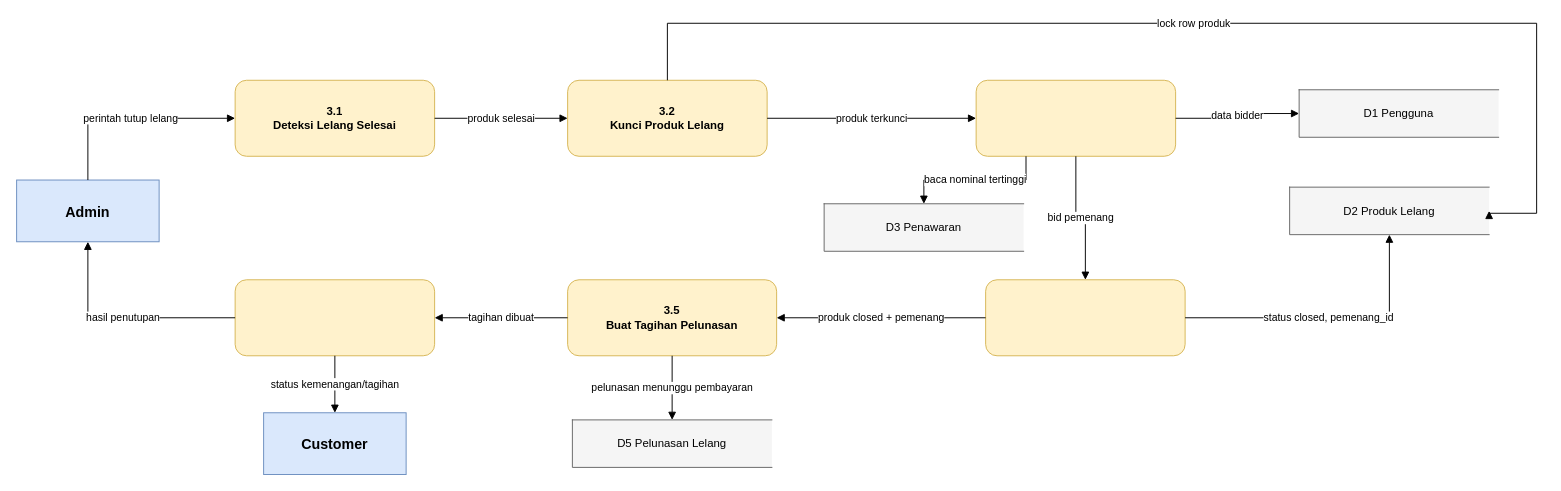
This 1561x491 diagram has some shape labels left out. Here are the shapes that lost their labels. From the top down, the centre of each, then its label:
[1075,117]: 3.3 Ambil Bid Tertinggi
[334,317]: 3.6 Catat Hasil Lelang
[1085,317]: 3.4 Set Closed & Pemenang
